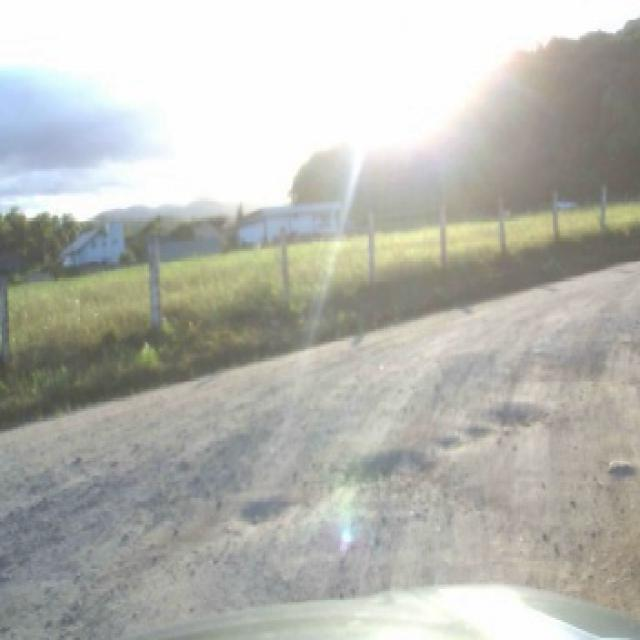Poth-hole: (347, 444, 431, 484), (238, 489, 306, 527), (491, 398, 549, 427), (609, 456, 638, 474), (467, 422, 495, 436), (438, 433, 464, 447)
